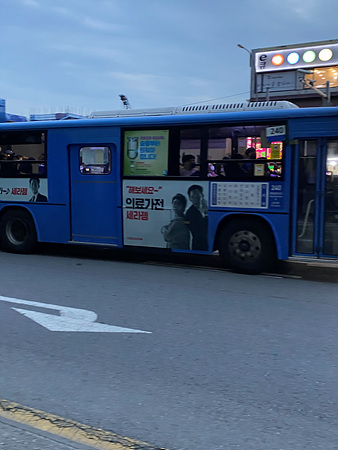entrance: (297, 132, 336, 256)
